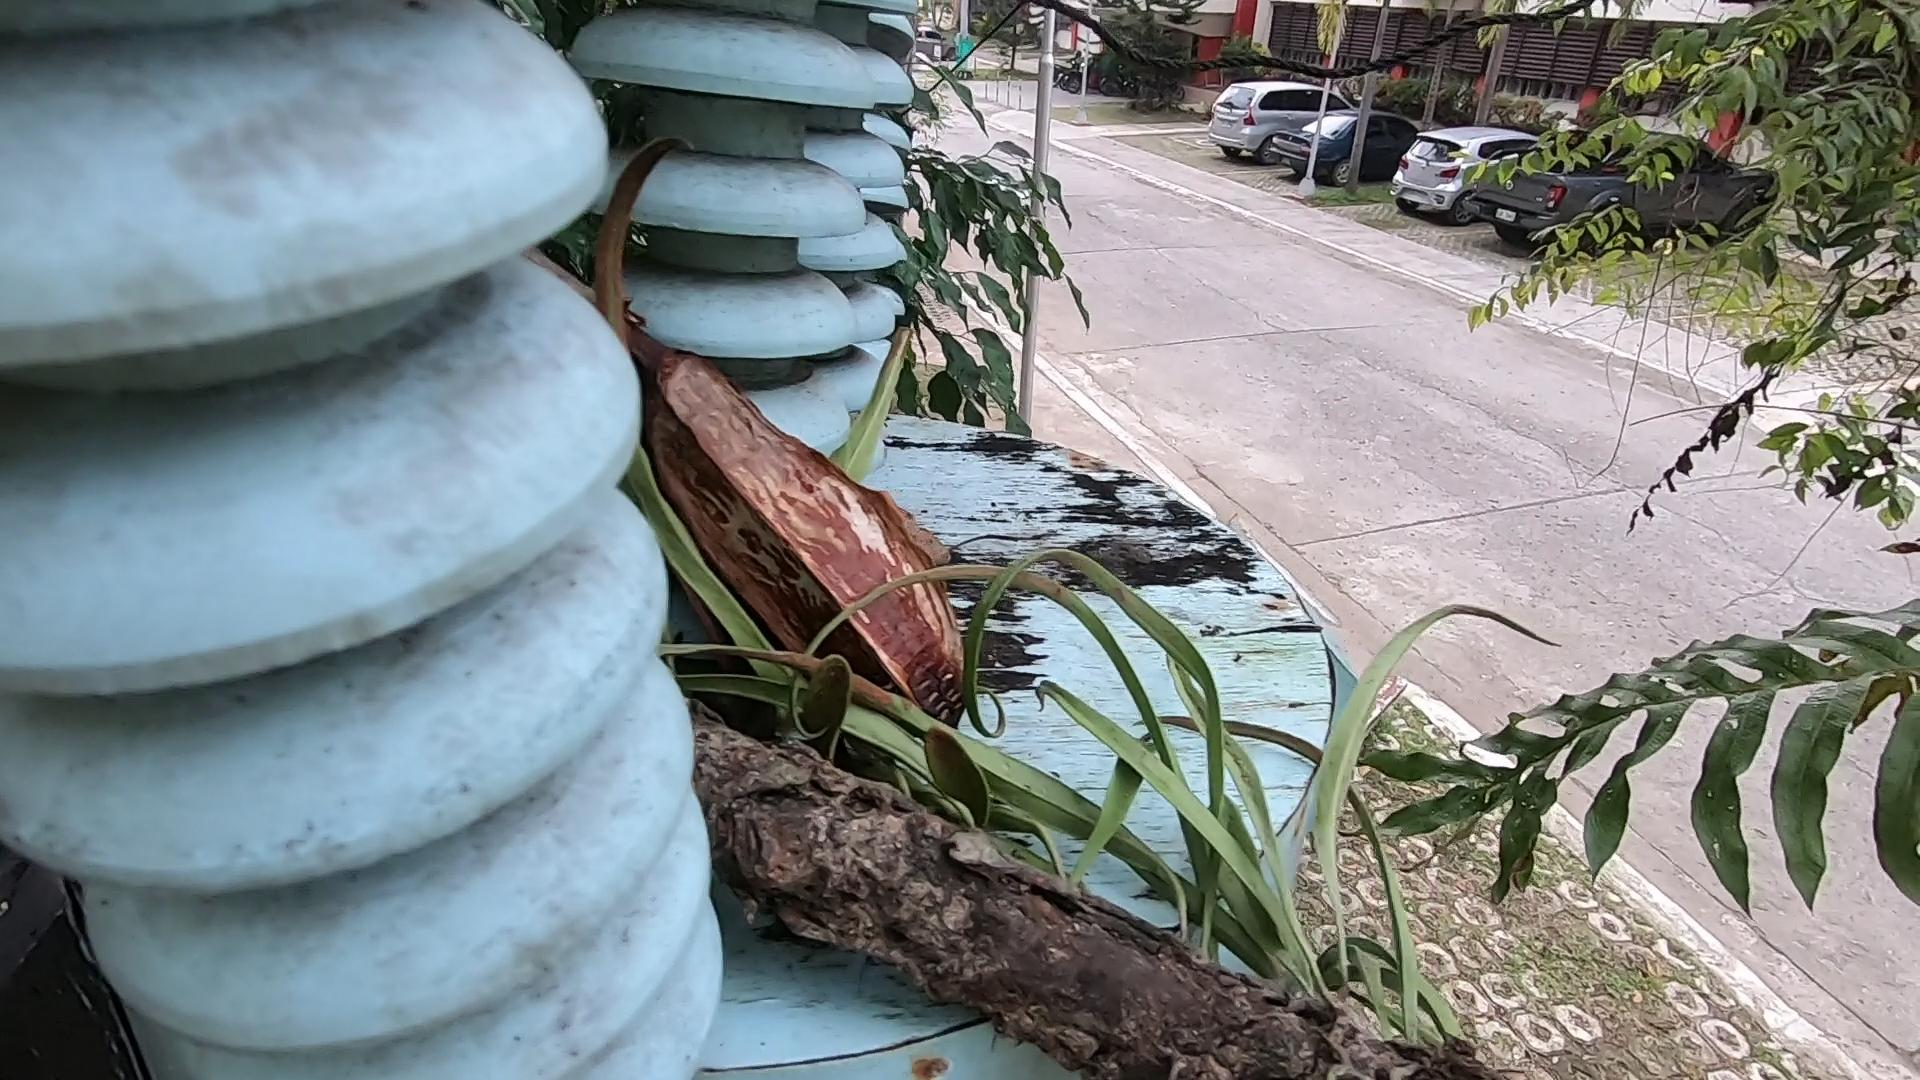branch with leaves: (695, 723, 1308, 1073)
mahogany fruit: (551, 216, 1274, 709)
